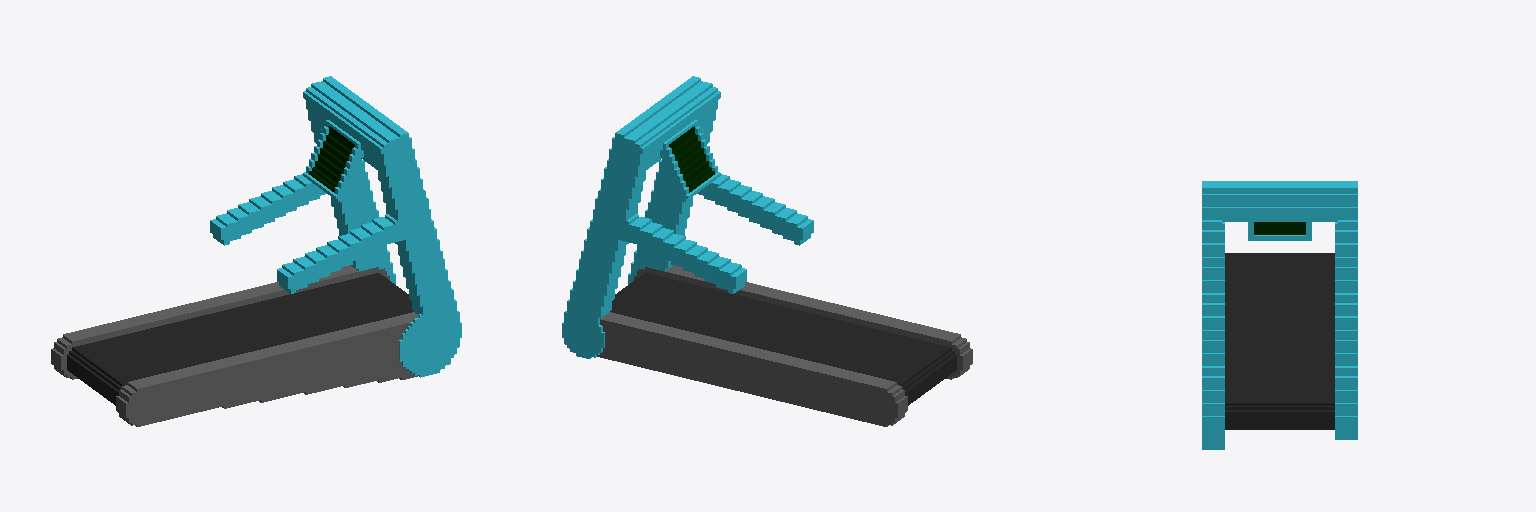
3 views of the same model, side by side, from view 1: azimuth 30°, elevation 25°; view 2: azimuth 150°, elevation 25°; view 3: azimuth 270°, elevation 25° (orthographic).
Parts seen in each view (by area): view 1: esteira; view 2: esteira; view 3: esteira.
Boxes of the visible parts, x1,y1,x2,y2 form: esteira: [51, 76, 461, 426]; esteira: [562, 76, 972, 426]; esteira: [1202, 181, 1357, 449].
Size of the model in its own units: 119 by 84 by 48.
1 materials, 1 textured.